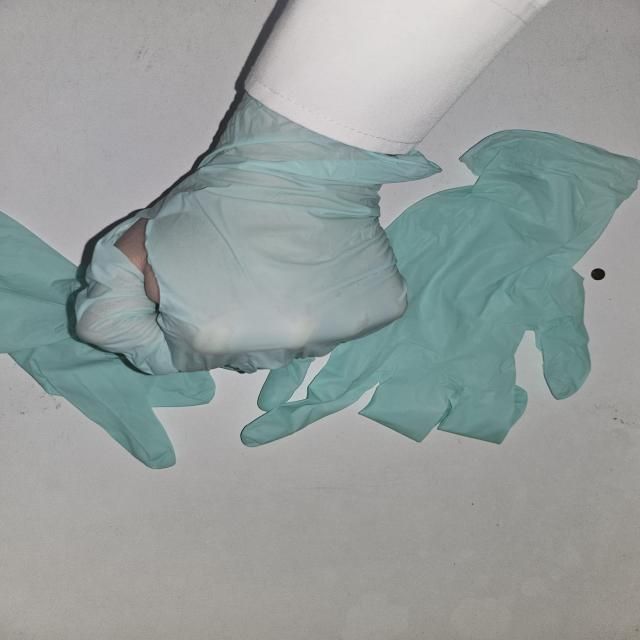gloves_damaged: (66, 120, 447, 378)
